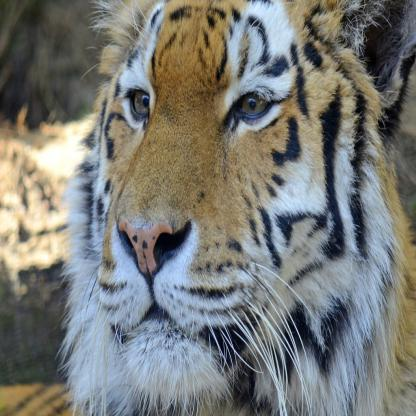tiger: (66, 2, 396, 413)
